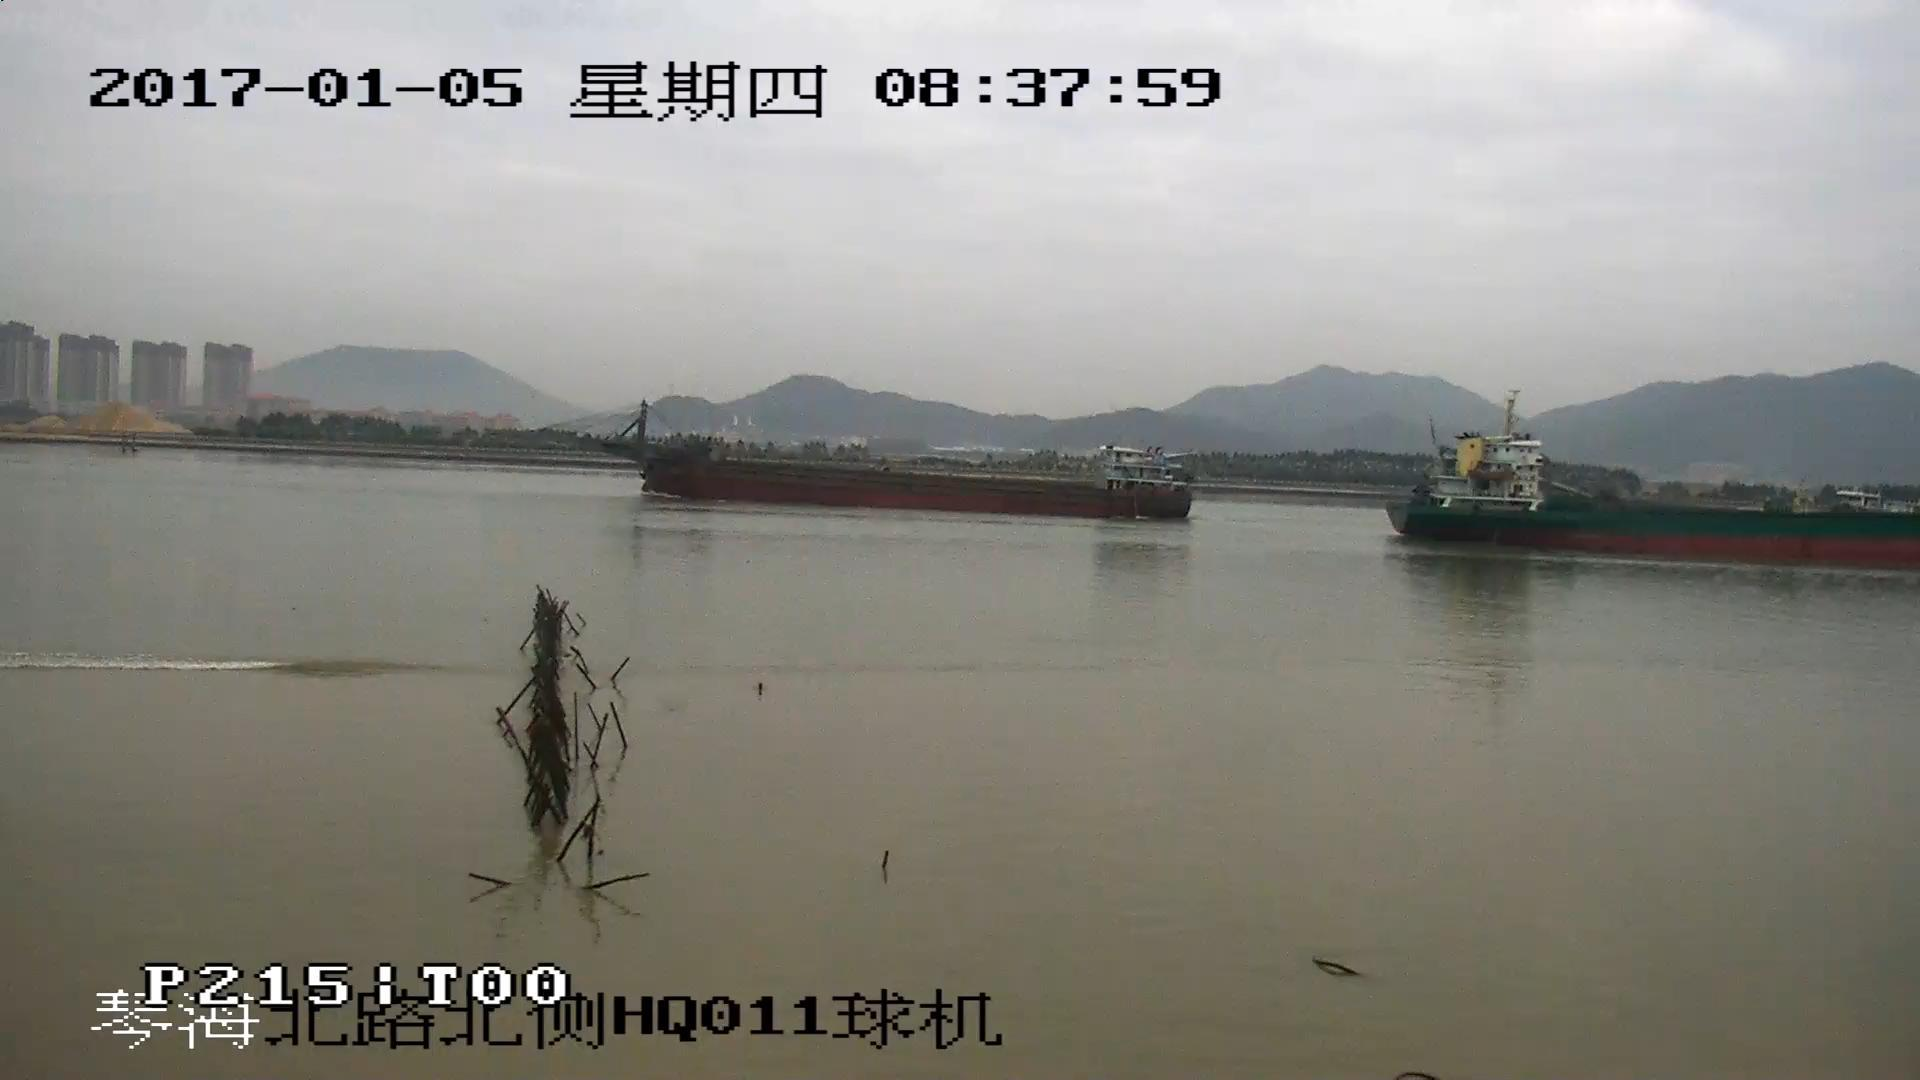Ship: (1383, 400, 1920, 572), (591, 413, 1197, 517)
